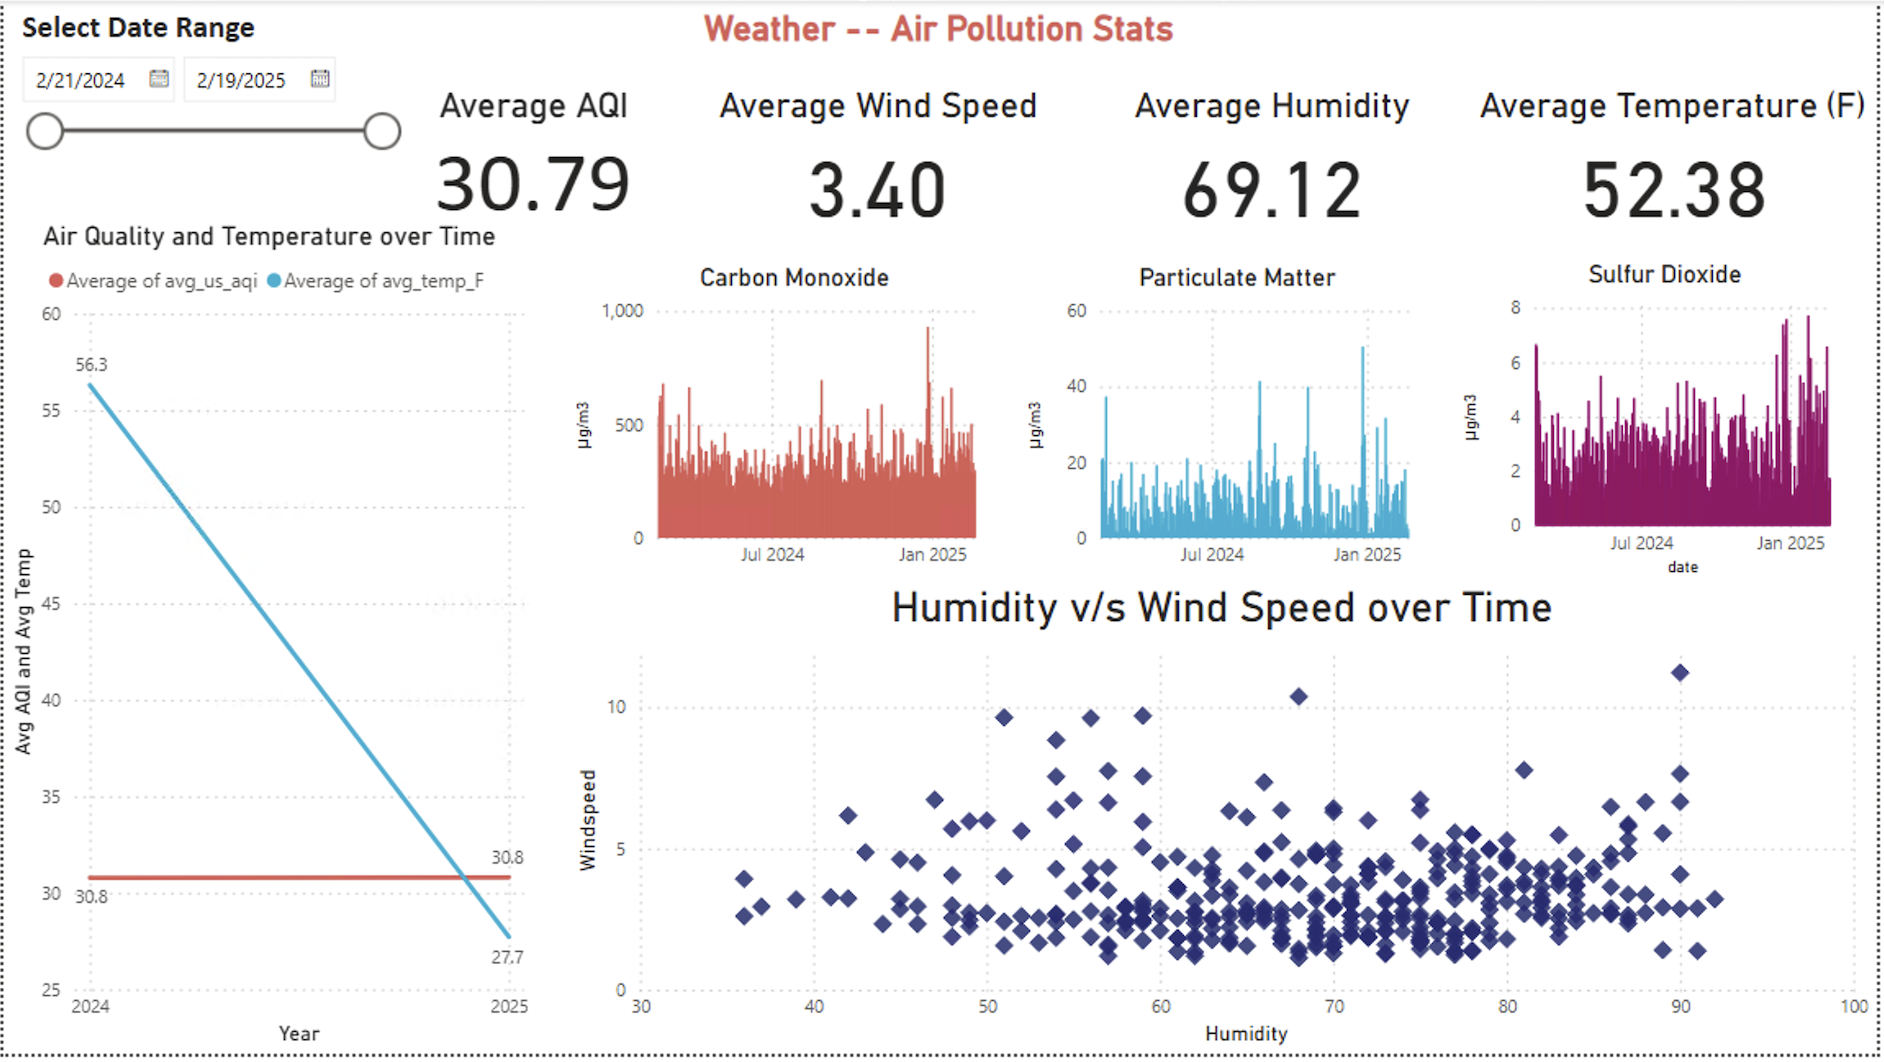

The dashboard page shown, as its layout file describes it:
{"tool":"powerbi","page":{"name":"Page 1","canvas":[1280,720],"ordinal":0},"visuals":[{"type":"textbox","box":[434.2,0,410.3,70.7],"z":0},{"type":"slicer","fields":{"Values":["DimDate.date"]},"box":[0,0,280.2,150.2],"z":1000},{"type":"card","title":"Average AQI","fields":{"Values":["Avg(AggAQI.avg_us_aqi)"]},"box":[280.2,56.8,165.4,93.4],"z":2000},{"type":"card","title":"Average Temperature (F)","fields":{"Values":["Avg(AggWeather.avg_temp_F)"]},"box":[1002.3,56.8,277.7,102.2],"z":3000},{"type":"card","title":"Average Wind Speed","fields":{"Values":["Avg(AggWeather.avg_wind_speed)"]},"box":[482.2,56.8,231,102.2],"z":4000},{"type":"card","title":"Average Humidity","fields":{"Values":["Avg(AggWeather.avg_humidity)"]},"box":[766.2,56.8,203.2,102.2],"z":5000},{"type":"lineChart","title":"Air Quality and Temperature over Time","fields":{"Category":["DimDate.date.Variation.Date Hierarchy.Year","DimDate.date.Variation.Date Hierarchy.Quarter","DimDate.date.Variation.Date Hierarchy.Month","DimDate.date.Variation.Date Hierarchy.Day"],"Y":["Avg(AggAQI.avg_us_aqi)","Avg(AggWeather.avg_temp_F)"]},"box":[0,150.2,363.6,569.3],"z":6000},{"type":"clusteredColumnChart","title":"Carbon Monoxide","fields":{"Category":["AggPollutants.date"],"Y":["Avg(AggPollutants.avg_co)"]},"box":[386.3,179.3,309.3,218.4],"z":7000},{"type":"clusteredColumnChart","title":"Particulate Matter","fields":{"Category":["AggPollutants.date"],"Y":["Avg(AggPollutants.avg_pm10)"]},"box":[695.5,179.3,296.6,218.4],"z":8000},{"type":"clusteredColumnChart","title":"Sulfur Dioxide","fields":{"Category":["AggPollutants.date"],"Y":["Avg(AggPollutants.avg_so2)"]},"box":[992.2,176.7,287.8,220.9],"z":8001},{"type":"scatterChart","title":"Humidity v/s Wind Speed over Time","fields":{"X":["Avg(AggWeather.avg_humidity)"],"Y":["Avg(AggWeather.avg_wind_speed)"],"Category":["AggWeather.date"]},"box":[386.3,397.6,893.7,321.9],"z":8002}]}

Visuals, with their boxes in screenshot pixels (x1, y1, x2, y2), scaled from the page's 1280x720 canvas onto the 1884x1062 screenshot:
textbox: bbox(639, 0, 1243, 104)
slicer - DimDate.date: bbox(0, 0, 412, 222)
"Average AQI" card: bbox(412, 84, 656, 222)
"Average Temperature (F)" card: bbox(1475, 84, 1883, 235)
"Average Wind Speed" card: bbox(710, 84, 1050, 235)
"Average Humidity" card: bbox(1128, 84, 1427, 235)
"Air Quality and Temperature over Time" lineChart: bbox(0, 222, 535, 1061)
"Carbon Monoxide" clusteredColumnChart: bbox(569, 264, 1024, 587)
"Particulate Matter" clusteredColumnChart: bbox(1024, 264, 1460, 587)
"Sulfur Dioxide" clusteredColumnChart: bbox(1460, 261, 1883, 586)
"Humidity v/s Wind Speed over Time" scatterChart: bbox(569, 586, 1883, 1061)
